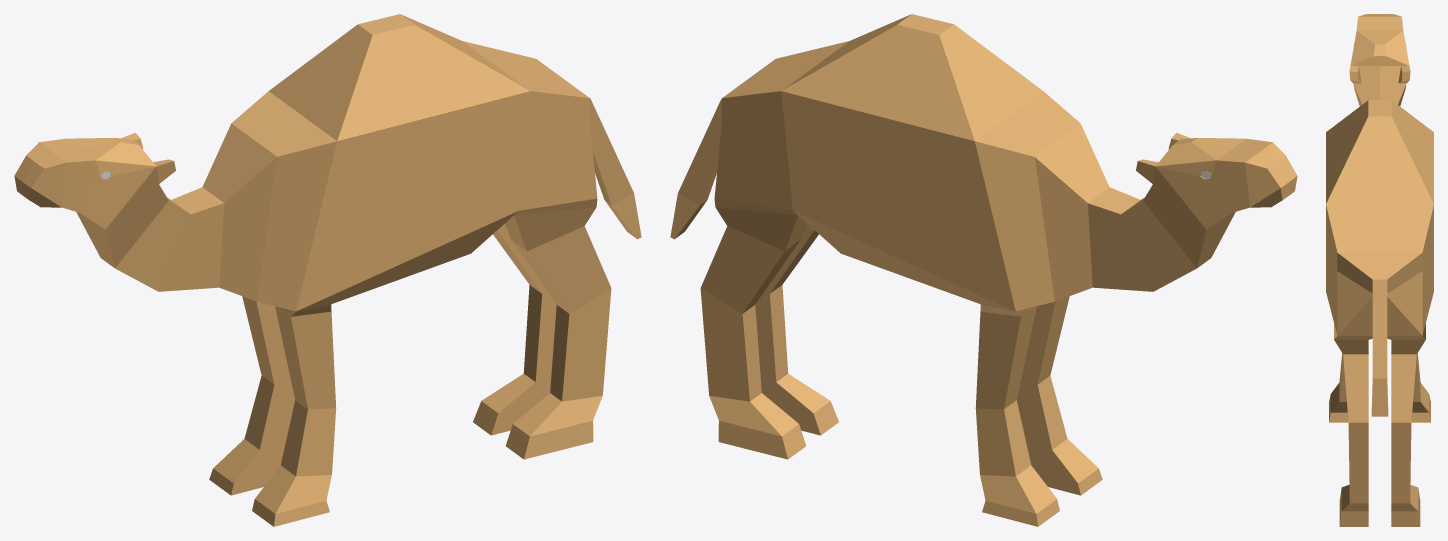
Rendered from kameli.fbx.
3 views of the same model, side by side, from view 1: azimuth 30°, elevation 25°; view 2: azimuth 150°, elevation 25°; view 3: azimuth 270°, elevation 25° (orthographic). The views are drawn at different scales.
Visible parts, largest first — view 1: Cube; view 2: Cube; view 3: Cube.
Boxes of the visible parts, x1,y1,x2,y2 form: Cube: (14, 14, 641, 526); Cube: (670, 14, 1297, 526); Cube: (1326, 14, 1433, 526).
Bounding box in the file's own units: 897 × 620 × 174.
